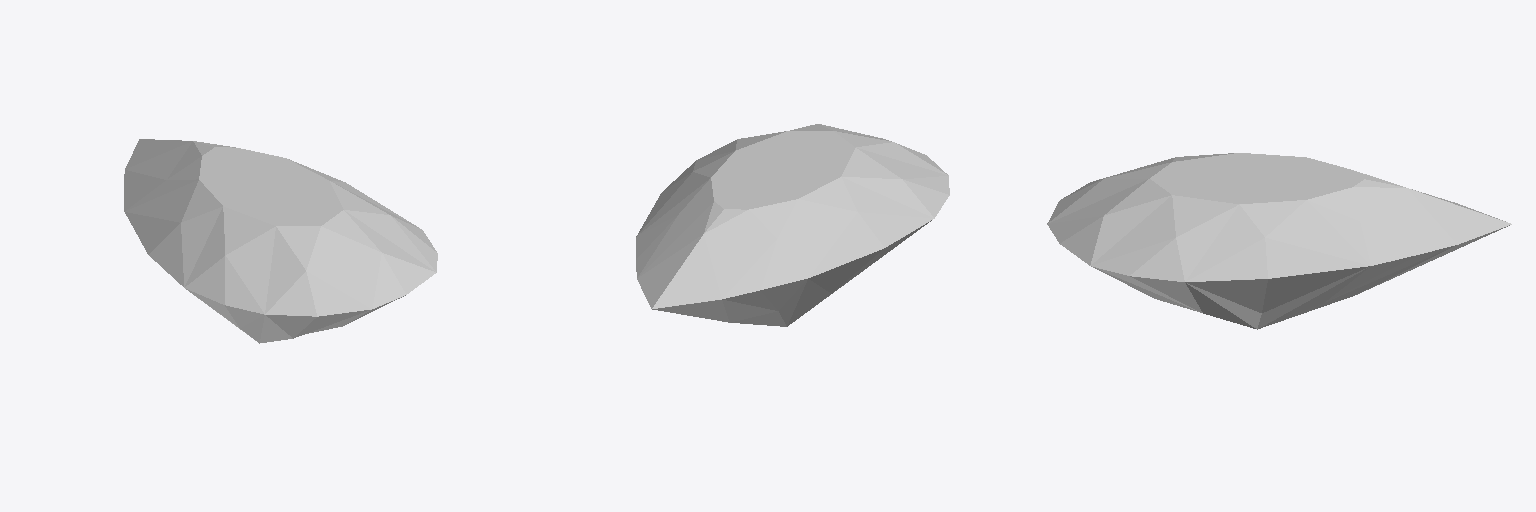
Rendered from Gem3.obj.
The picture shows the model from 3 angles: view 1: azimuth 30°, elevation 25°; view 2: azimuth 150°, elevation 25°; view 3: azimuth 270°, elevation 25°; orthographic projection.
Bounding box in the file's own units: 0.0272 × 0.0169 × 0.0461.